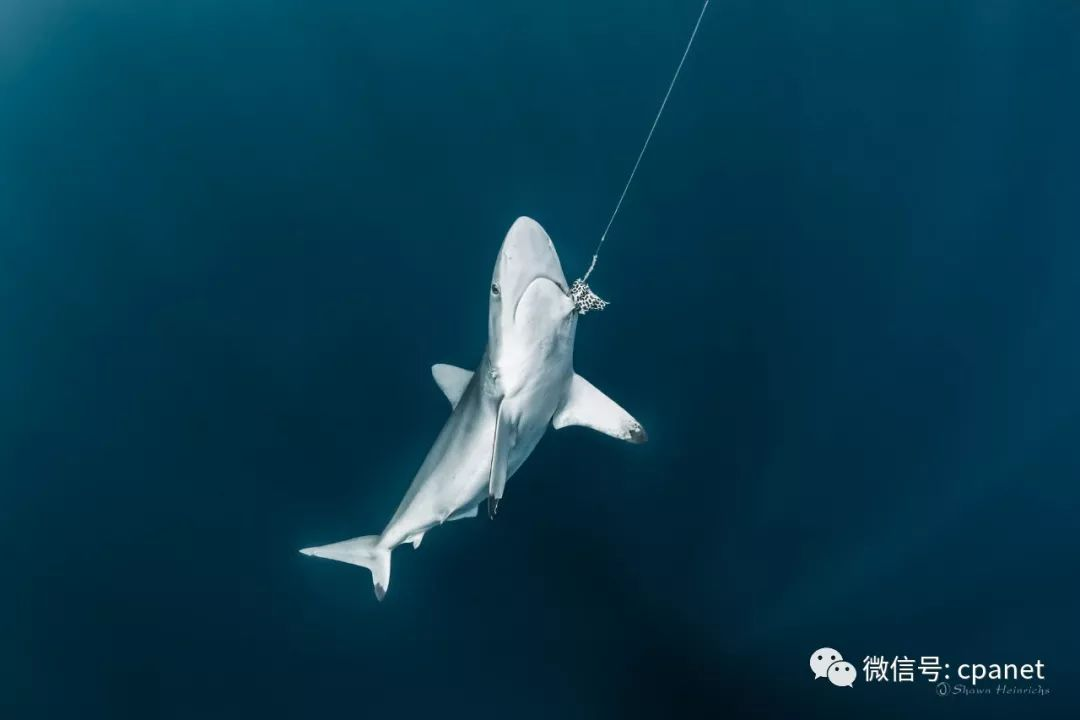shark: (293, 213, 657, 614)
